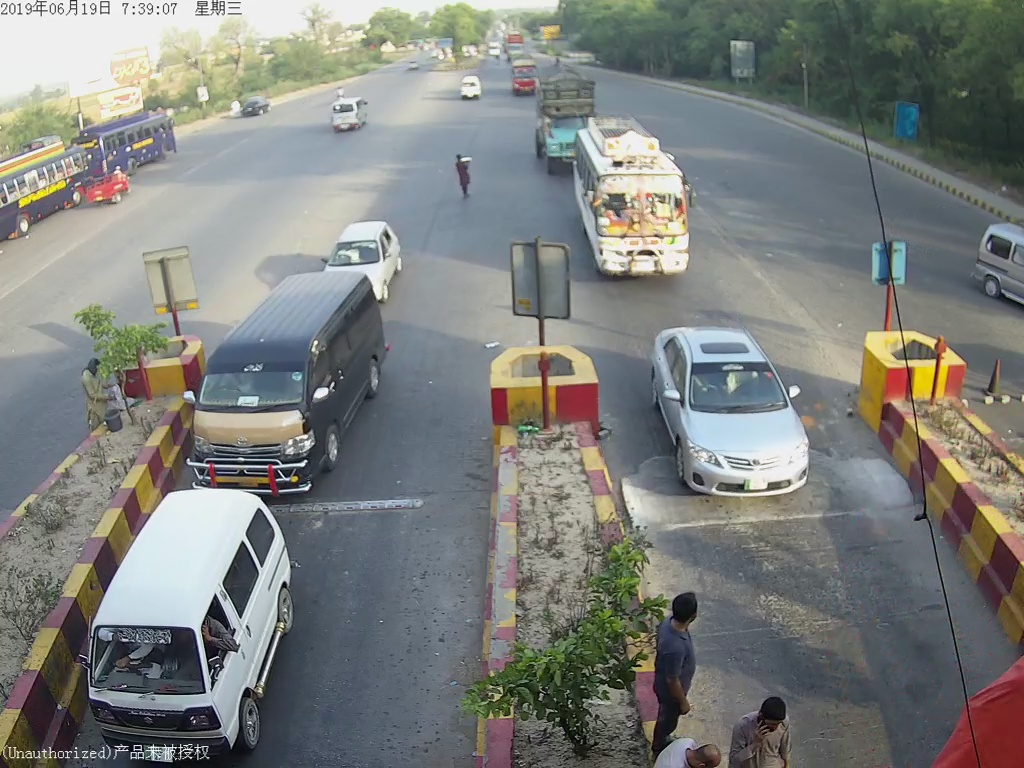Cat-1: (93, 489, 300, 755), (654, 316, 818, 498), (330, 218, 408, 297)
Cat-2: (191, 273, 391, 488)
Cat-3: (568, 122, 701, 279)
Cat-4: (530, 54, 596, 166)
